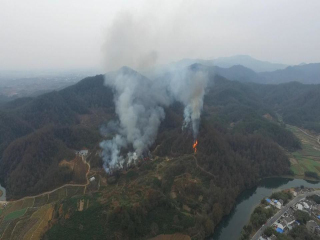smoke: (98, 10, 211, 169)
